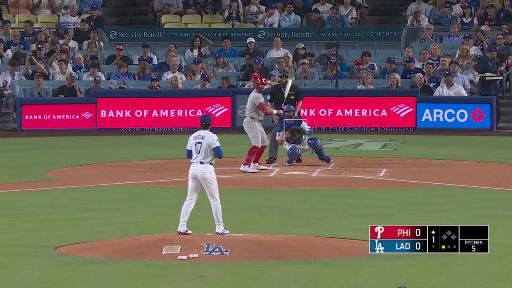pitcher: (178, 113, 230, 235)
